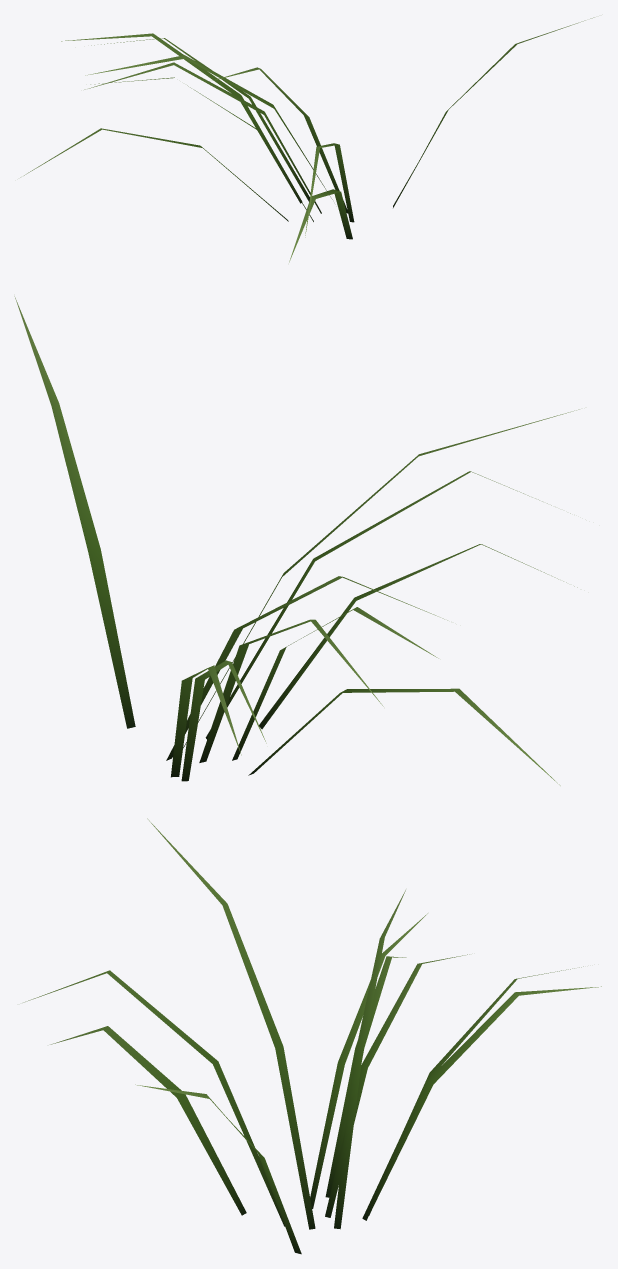
File: b612_veg_VL_Grass_Meadow_B_1.glb
The picture shows the model from 3 angles, top to bottom: view 1: azimuth 30°, elevation 25°; view 2: azimuth 150°, elevation 25°; view 3: azimuth 270°, elevation 25°; orthographic projection. The views are drawn at different scales.
Parts seen in each view (by area): view 1: Grass_Meadow_B_LOD1; view 2: Grass_Meadow_B_LOD1; view 3: Grass_Meadow_B_LOD1.
Boxes of the visible parts, x1,y1,x2,y2 form: Grass_Meadow_B_LOD1: [20, 17, 594, 262]; Grass_Meadow_B_LOD1: [14, 296, 579, 785]; Grass_Meadow_B_LOD1: [23, 818, 601, 1254].
Bounding box in the file's own units: 0.6288 × 0.2896 × 0.539.
